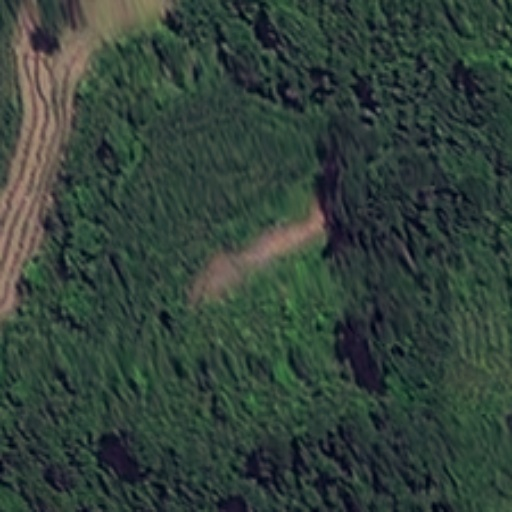landslide: (189, 200, 323, 301)
